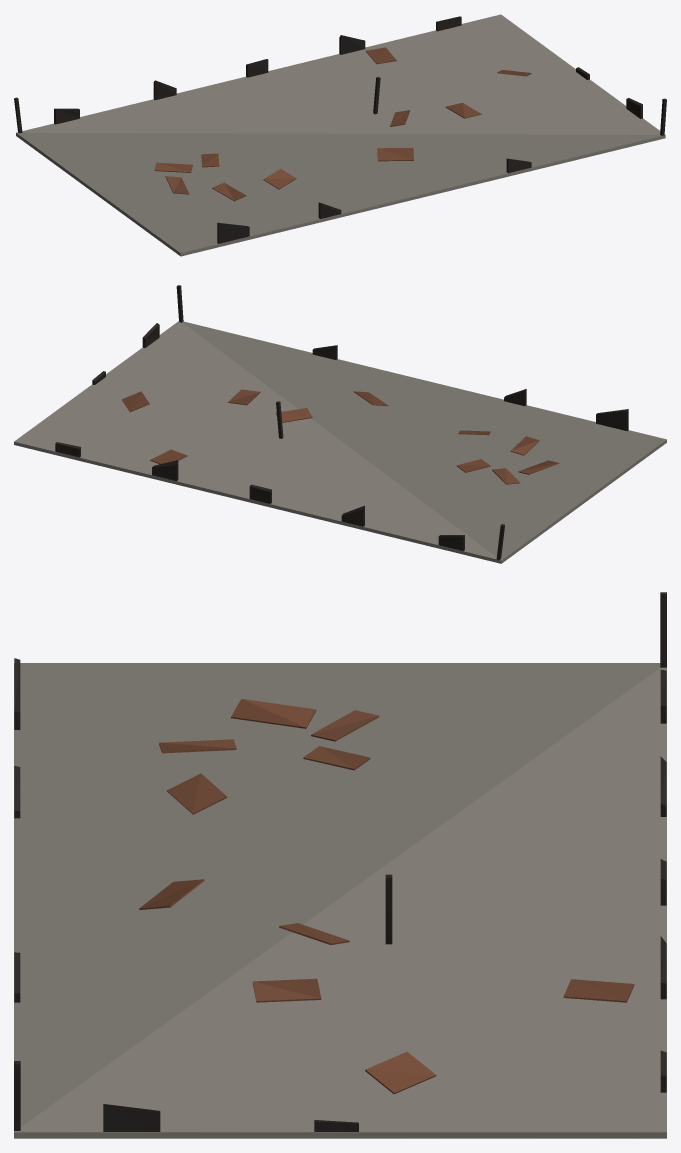
The model's file is ruin_34x20_lod1.glb.
3 renders of one model, top to bottom at view 1: azimuth 30°, elevation 25°; view 2: azimuth 150°, elevation 25°; view 3: azimuth 270°, elevation 25°, orthographic. The views are drawn at different scales.
Visible parts, largest first — view 1: ruin; view 2: ruin; view 3: ruin.
Boxes of the visible parts, left/top/right/bottom form: ruin: left=14, top=14, right=666, bottom=256; ruin: left=14, top=285, right=666, bottom=563; ruin: left=14, top=592, right=666, bottom=1138.
Size of the model in its own units: 34.23 by 2.57 by 20.
